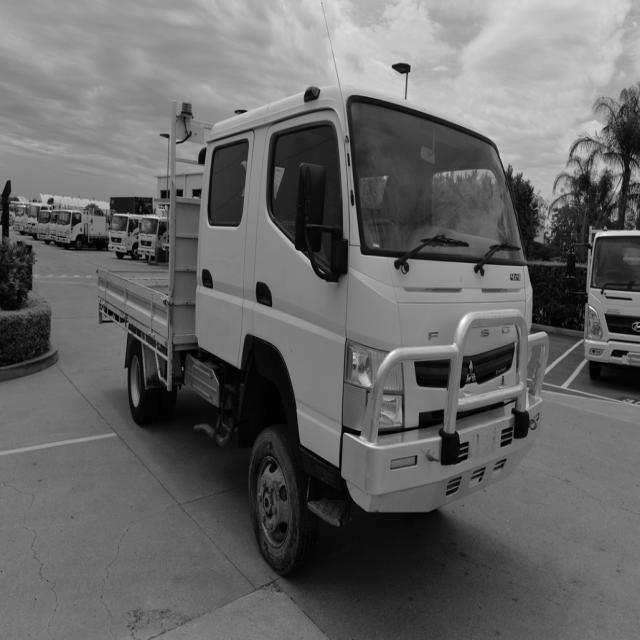truck: (169, 70, 568, 533)
